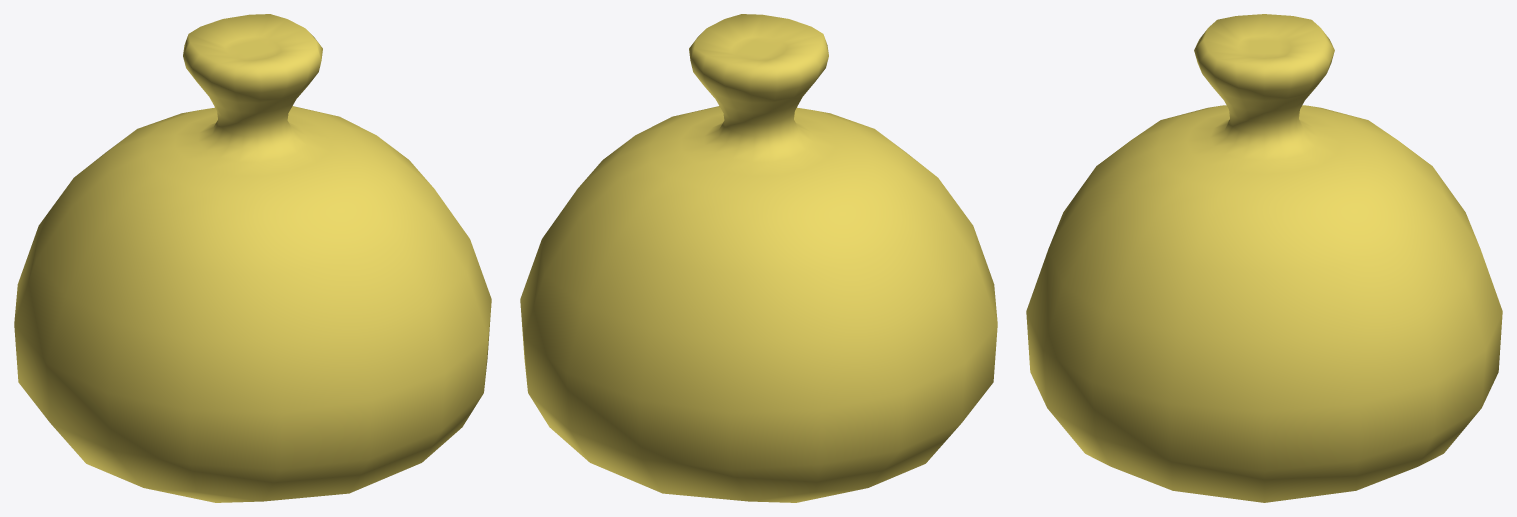
The model's file is mod_tool_pickerBag.fbx.
3 views of the same model, side by side, from view 1: azimuth 30°, elevation 25°; view 2: azimuth 150°, elevation 25°; view 3: azimuth 270°, elevation 25° (orthographic).
Parts seen in each view (by area): view 1: mesh_trashBag; view 2: mesh_trashBag; view 3: mesh_trashBag.
Boxes of the visible parts, x1,y1,x2,y2 form: mesh_trashBag: (14, 14, 491, 502); mesh_trashBag: (520, 14, 997, 502); mesh_trashBag: (1026, 14, 1502, 502).
Bounding box in the file's own units: 283 × 277 × 283.
